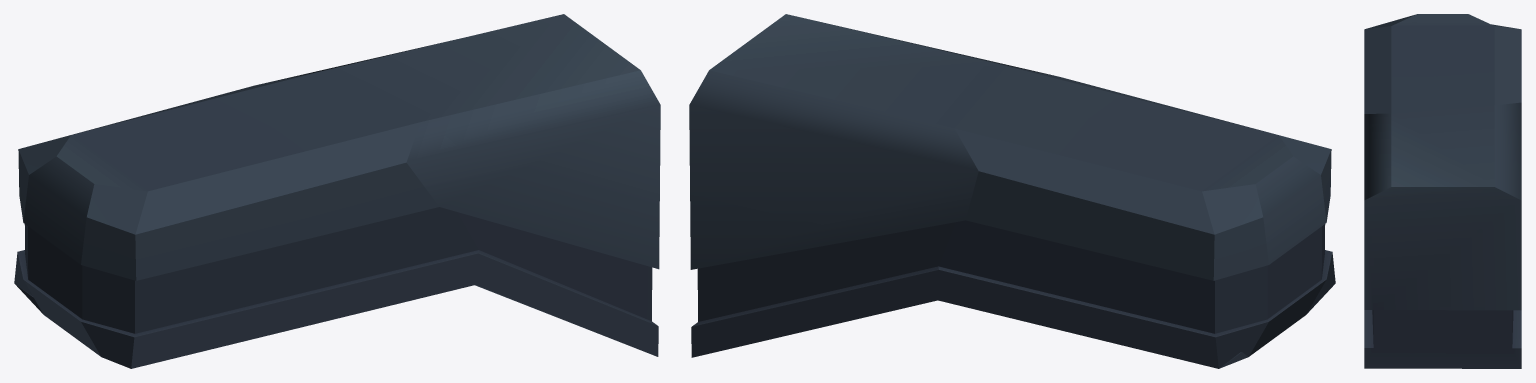
The model's file is Modular_Dungeon_Railing_Plain_Top.fbx.
3 views of the same model, side by side, from view 1: azimuth 30°, elevation 25°; view 2: azimuth 150°, elevation 25°; view 3: azimuth 270°, elevation 25° (orthographic). The views are drawn at different scales.
Visible parts, largest first — view 1: Railing_Plain_Top; view 2: Railing_Plain_Top; view 3: Railing_Plain_Top.
Part boxes in pixels (bbox=[...]): Railing_Plain_Top: bbox=[14, 14, 660, 368]; Railing_Plain_Top: bbox=[689, 14, 1335, 368]; Railing_Plain_Top: bbox=[1364, 14, 1521, 368].
Size of the model in its own units: 2.82 by 1.34 by 1.04.
Materials: 1 (1 with a texture image).
